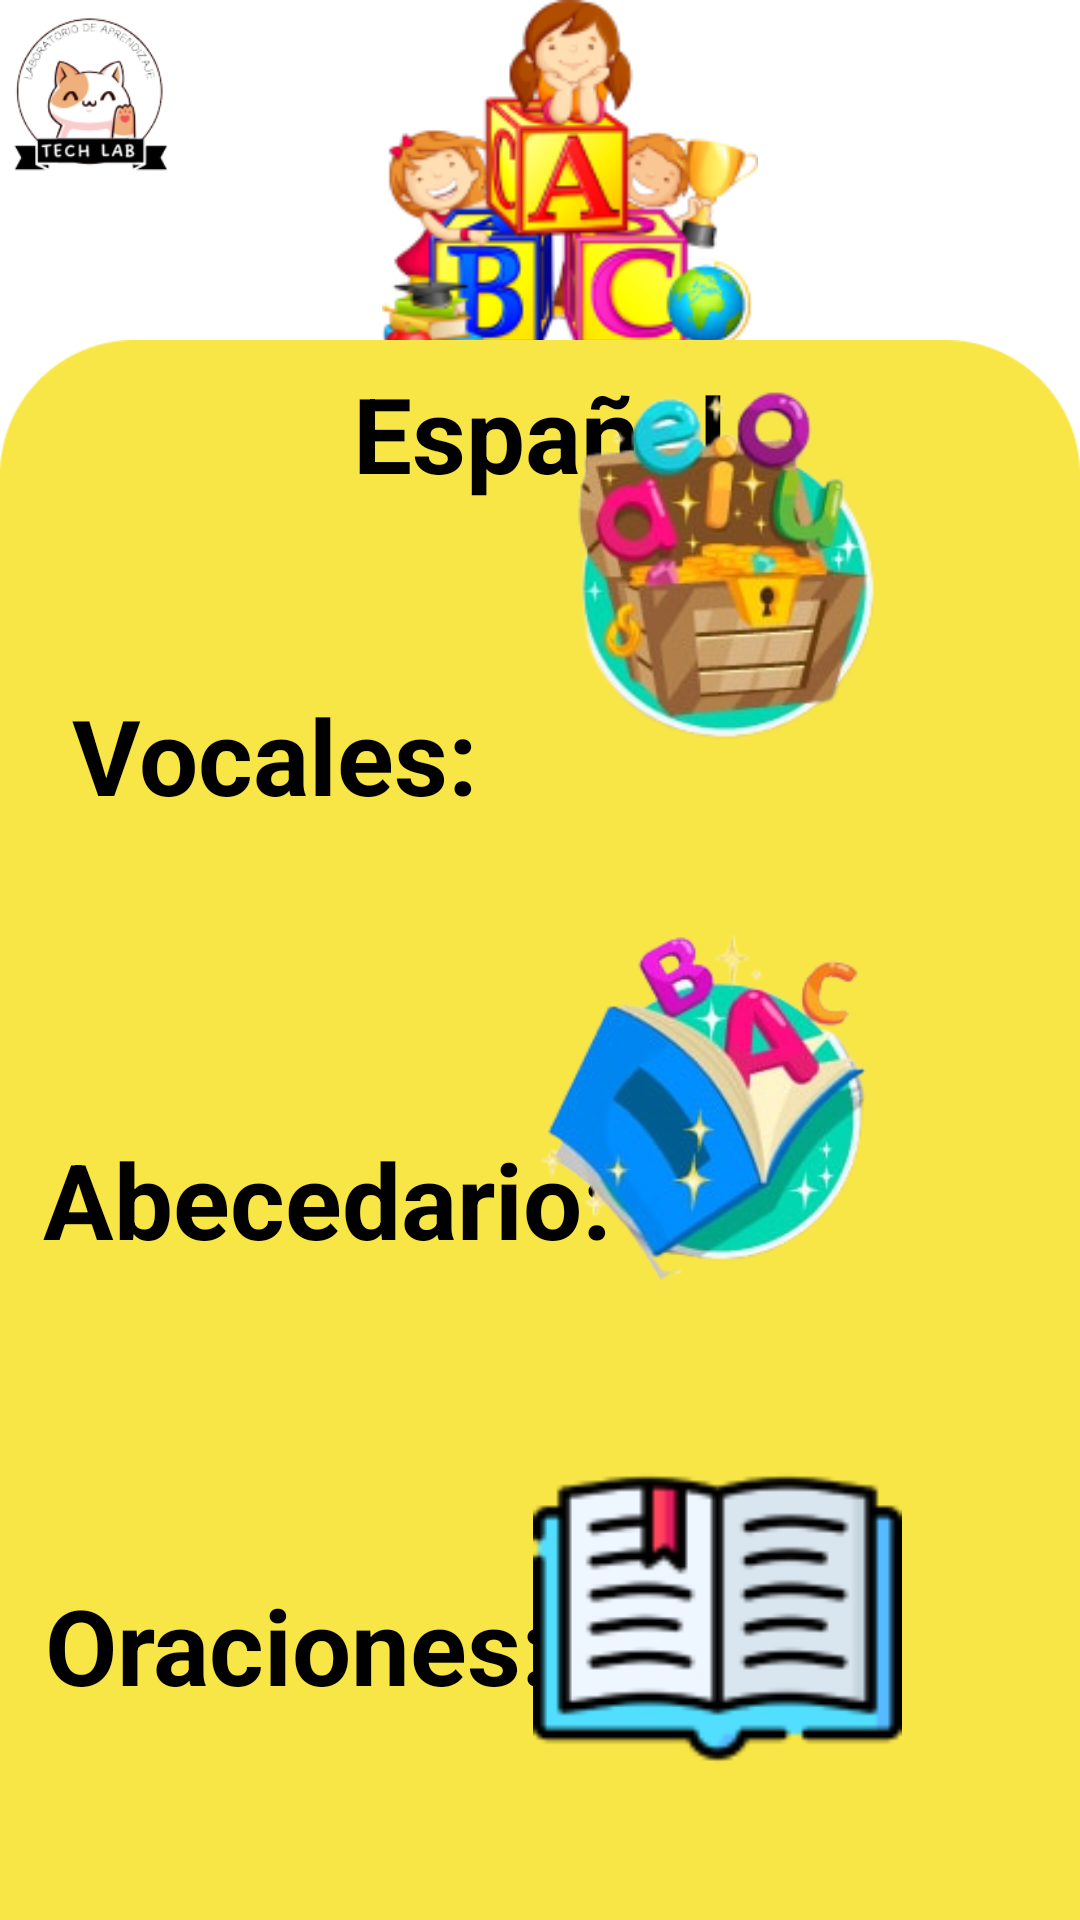

Screen size 1080 × 1920. Icon name, then its center in pixels as point (x, y):
aei: point (701, 564)
